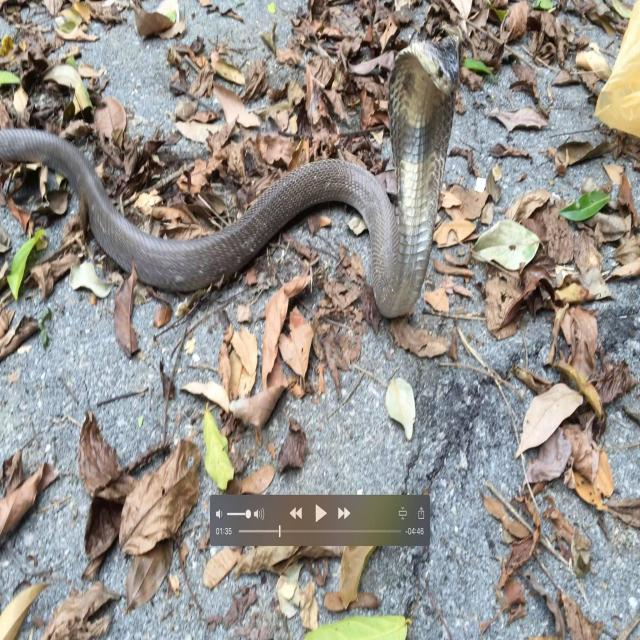Snake: (0, 32, 462, 319)
